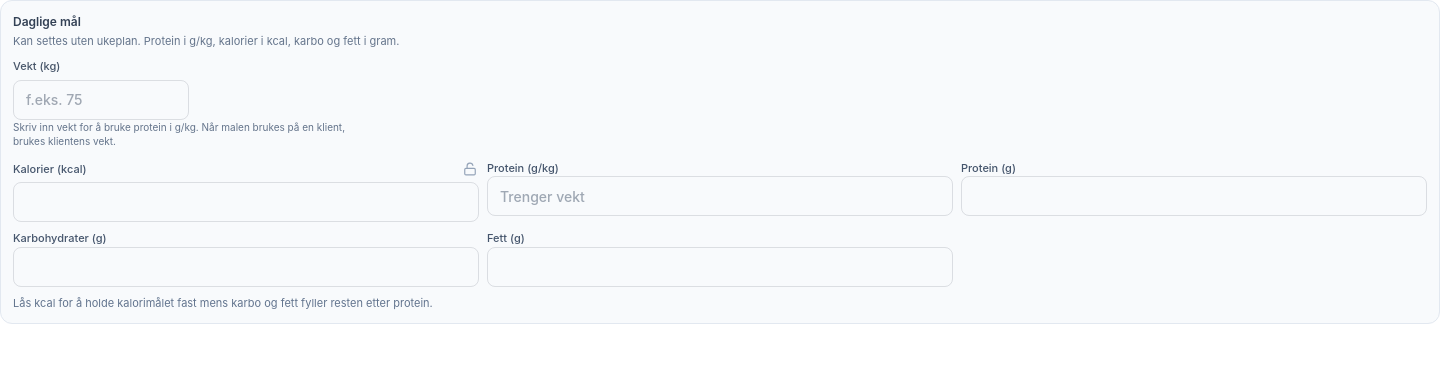
Scenario: TrainerNutritionTargetsPanel › lar treneren skrive vekt på mal og beregne protein i g/kg
Type "75" into the field labelled "Vekt (kg)".
click(101, 100); type("75")  # box [13,80,189,120]
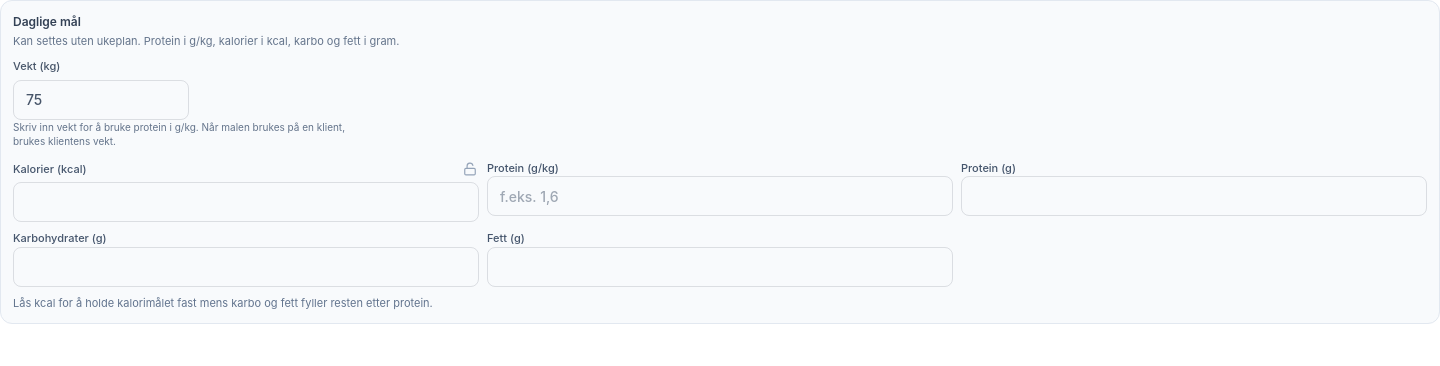
Type "1,6" into the field labelled "Protein (g/kg)".
click(720, 196); type("1,6")  # box [487,176,953,216]
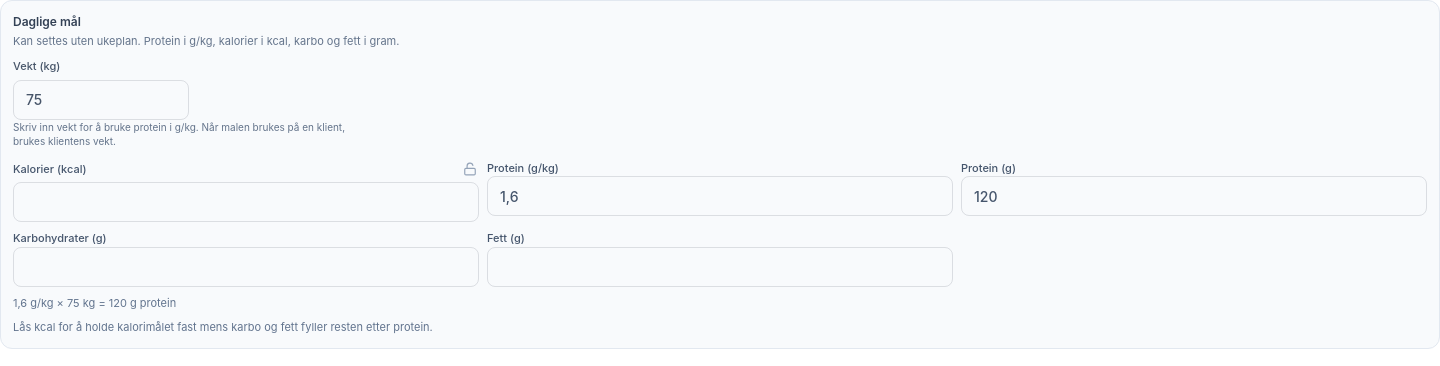
Expected: the field labelled "Protein (g)" holds "120", [961,176,1427,216]
